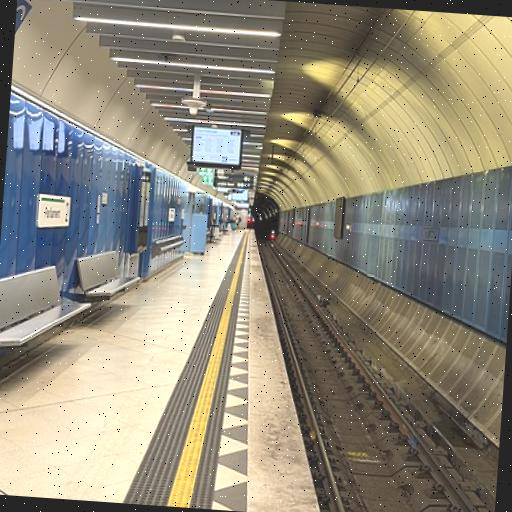clear_path: (0, 231, 250, 500)
platform_edge: (247, 233, 319, 512)
signage: (192, 123, 246, 164), (37, 193, 70, 231), (214, 170, 253, 192)
tgsi: (124, 229, 248, 508)
